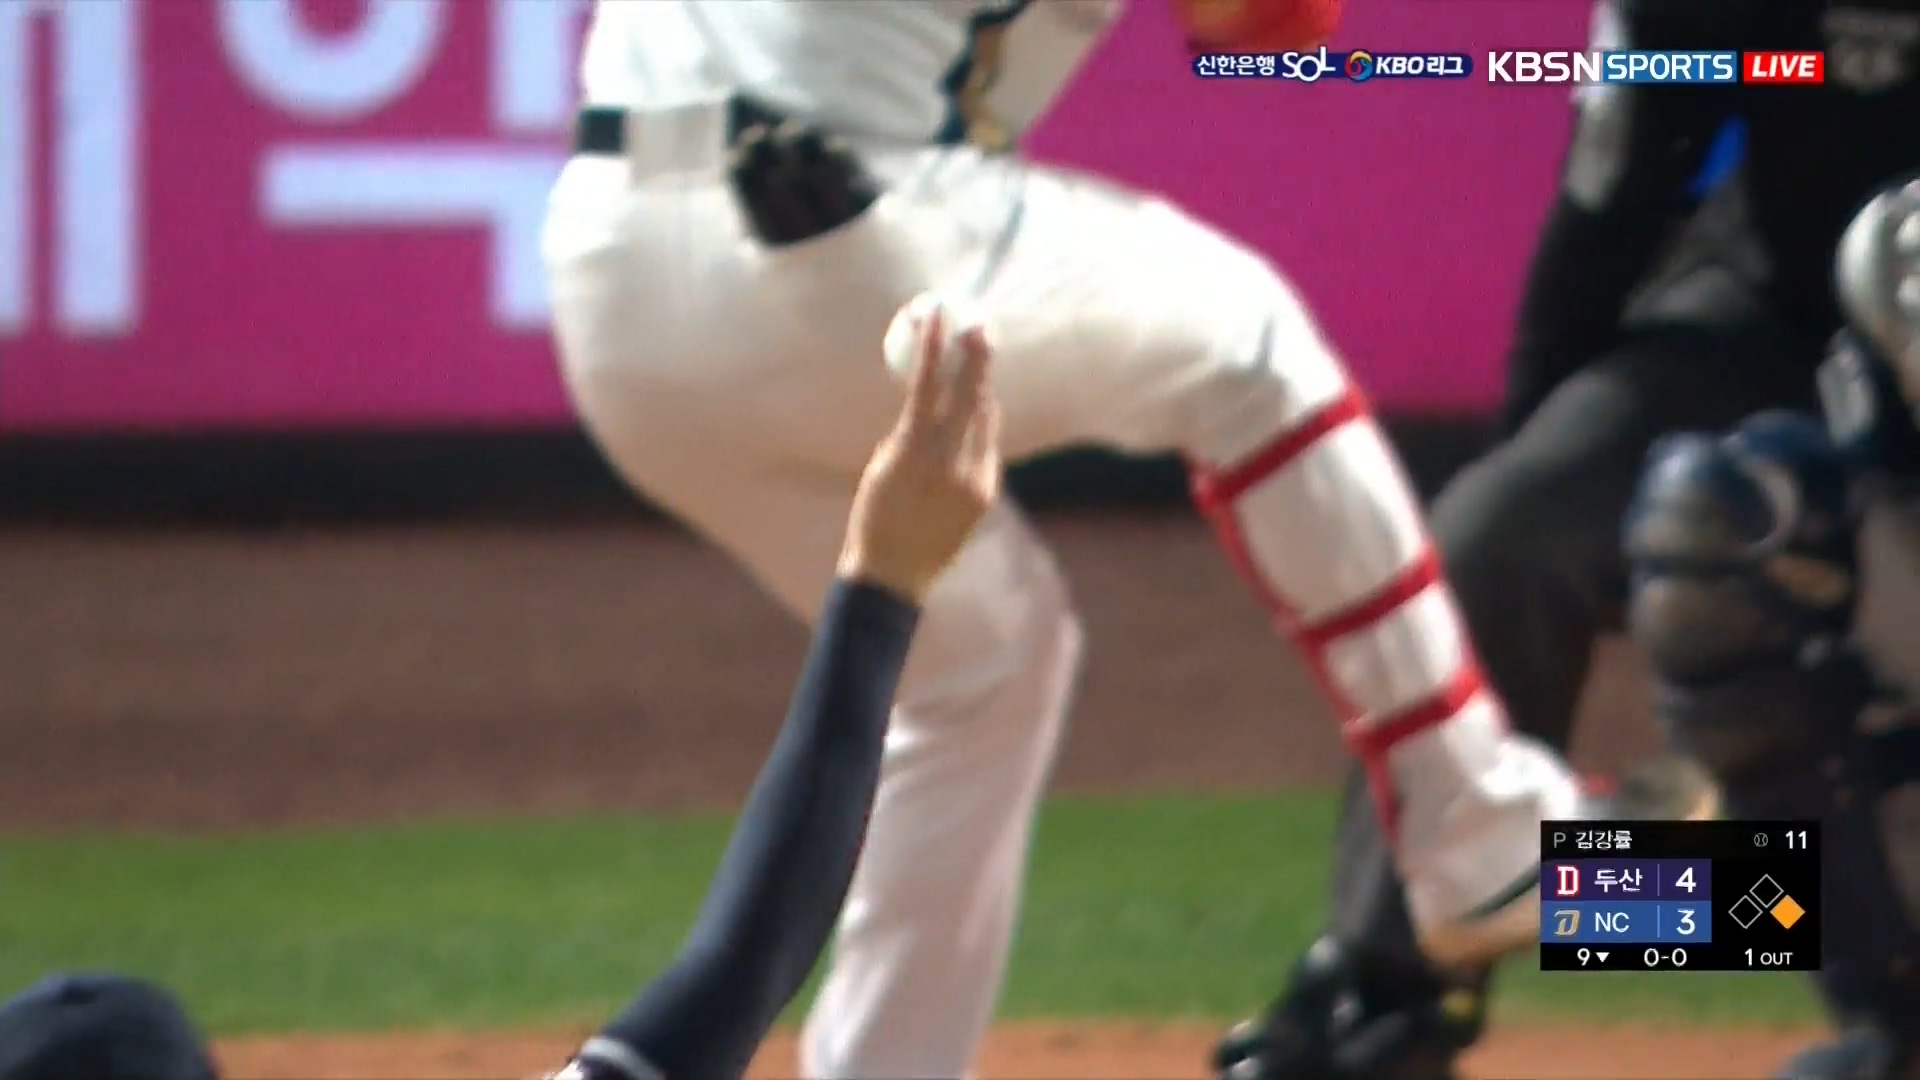zoomin_hand: (720, 281, 1022, 984)
